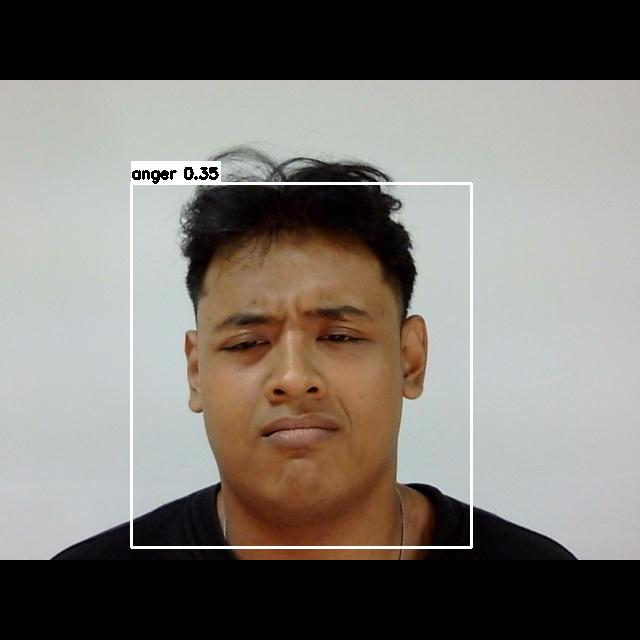Disgust: (198, 294, 406, 481)
